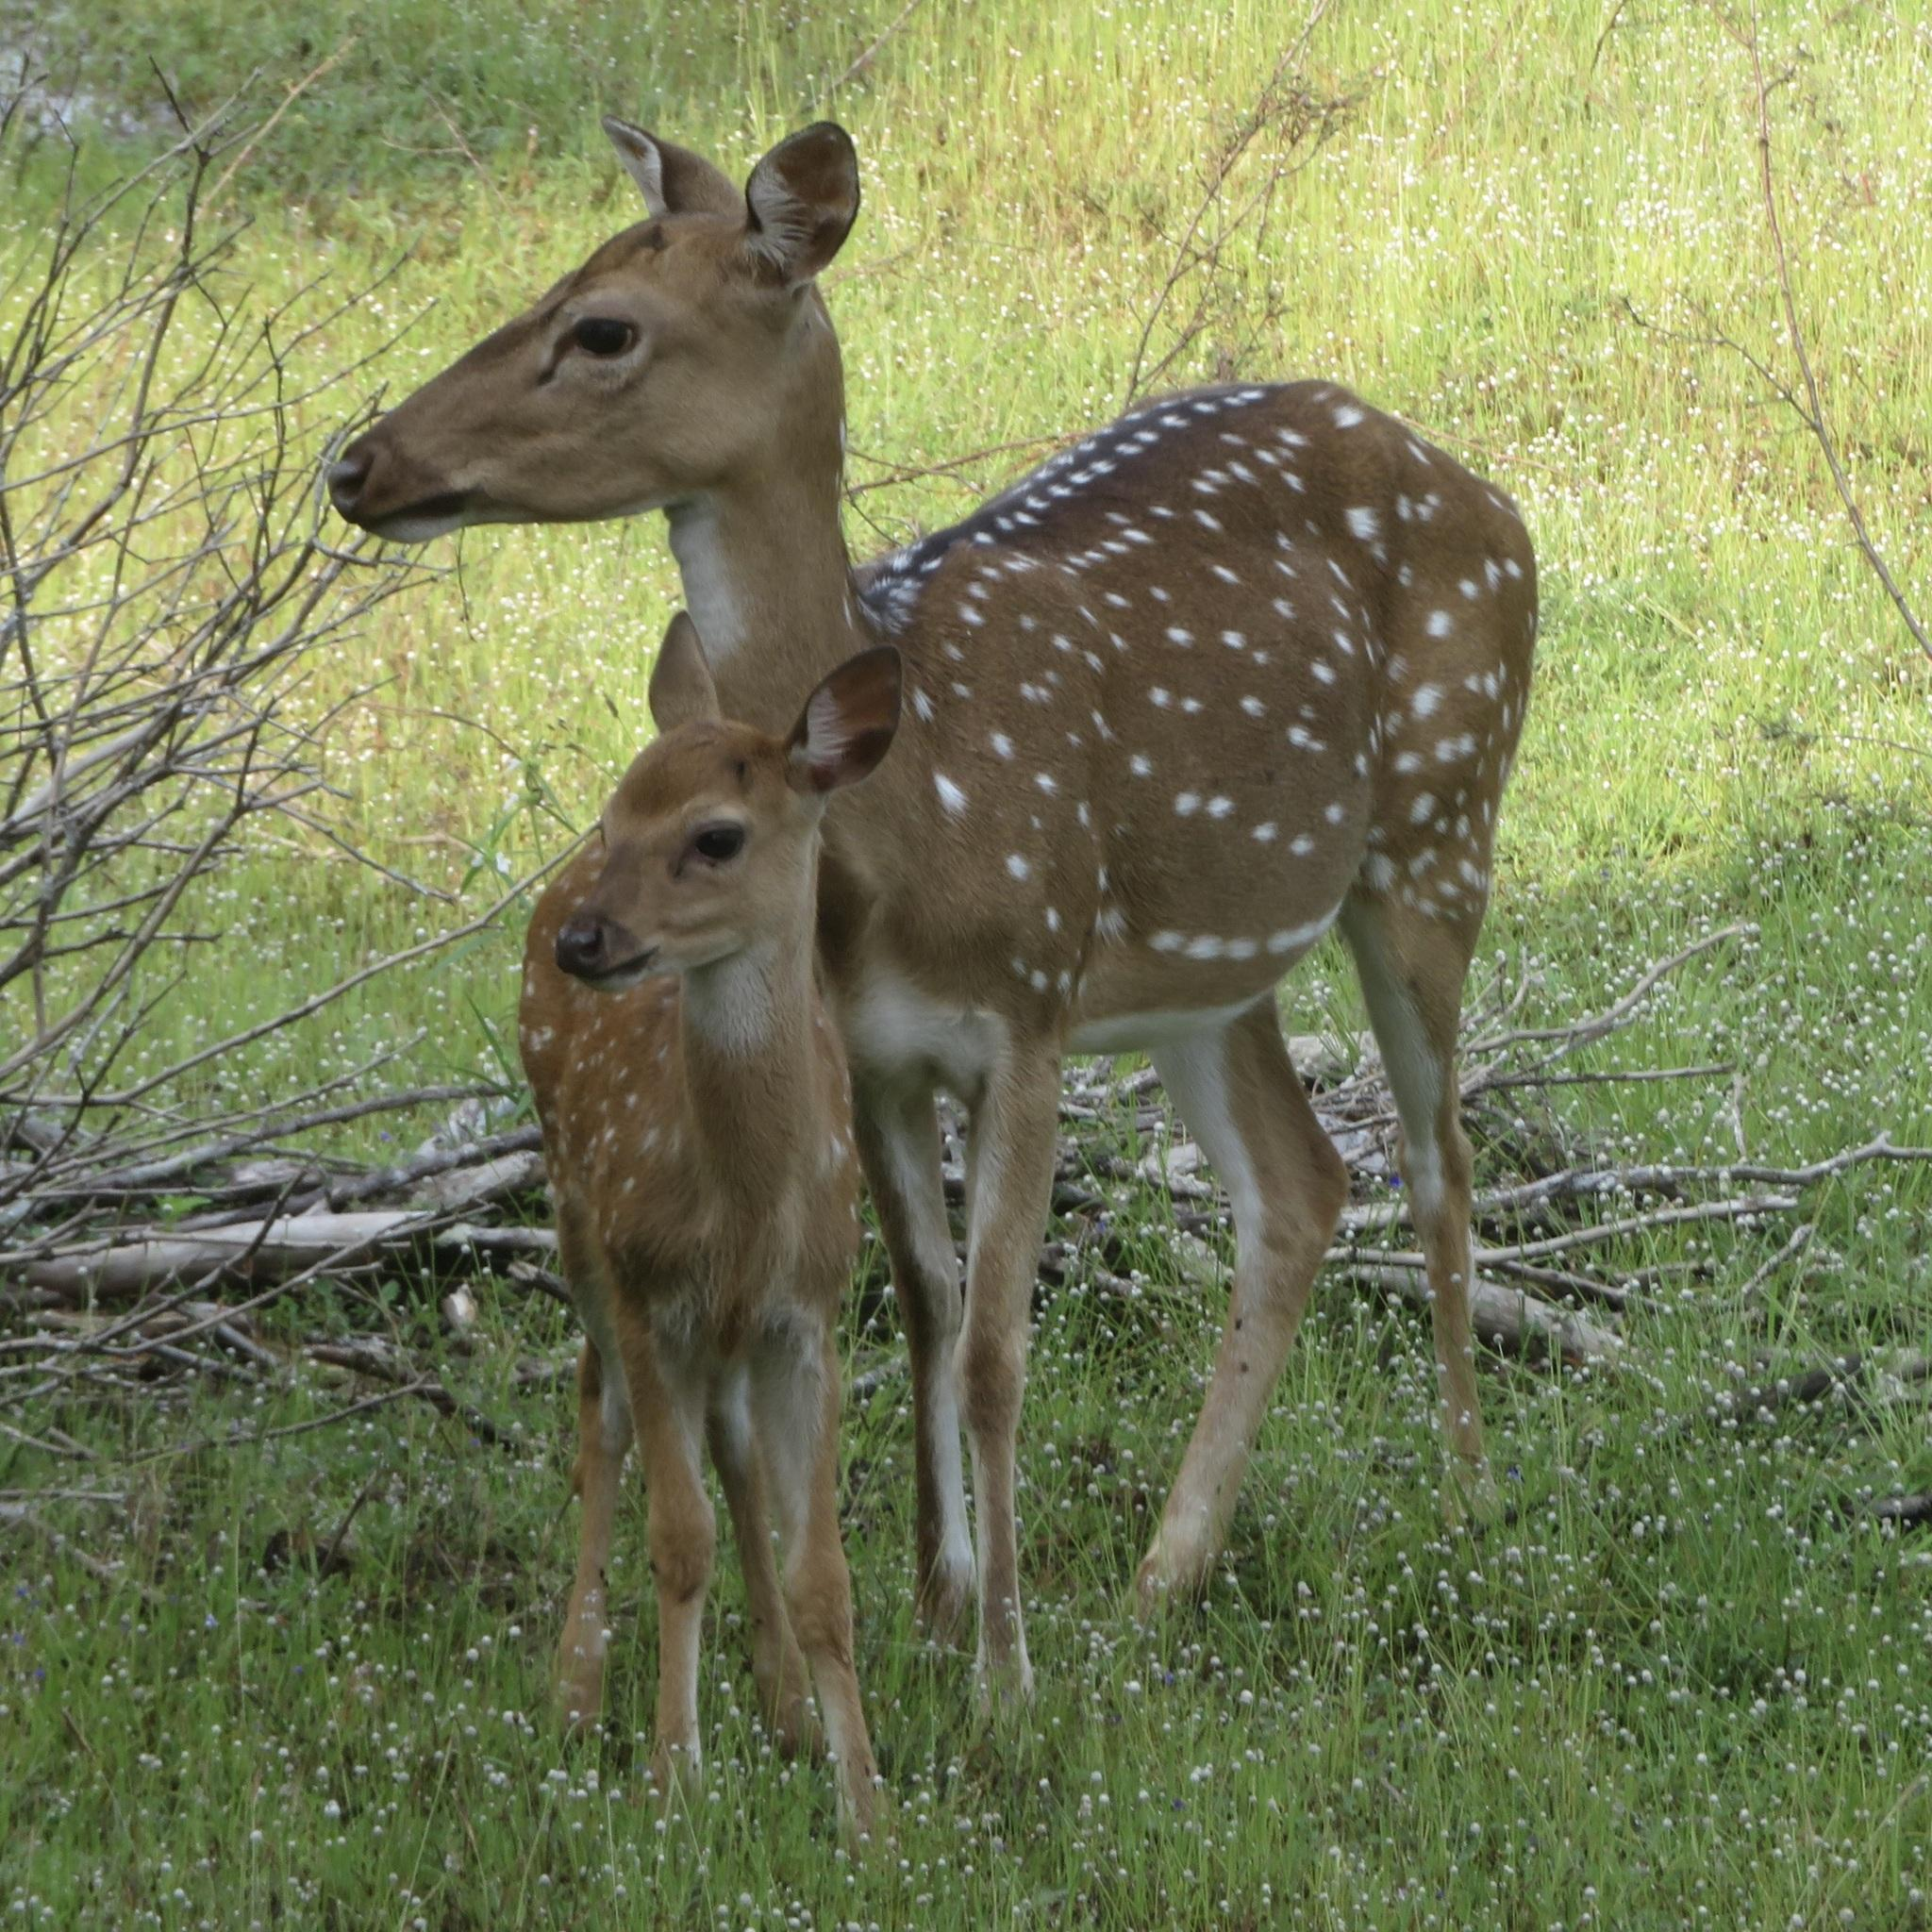Deer: (326, 119, 1536, 1660), (520, 614, 901, 1813)
